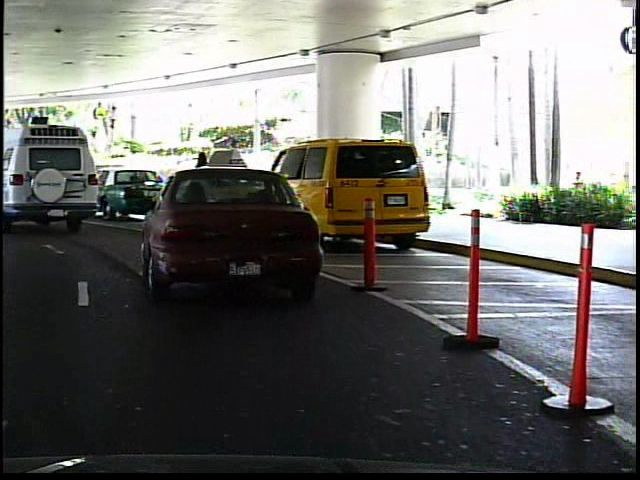person: (188, 146, 215, 214), (224, 143, 250, 211), (67, 152, 89, 199), (6, 158, 25, 197)
